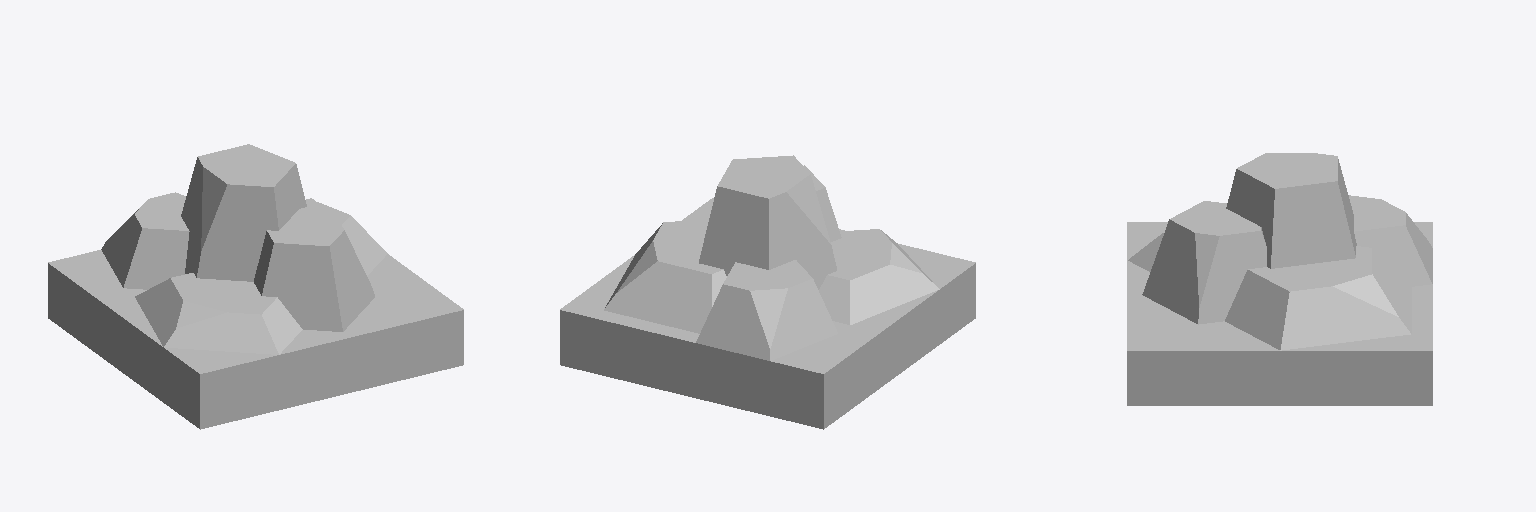
File: Rock.obj
The picture shows the model from 3 angles: view 1: azimuth 30°, elevation 25°; view 2: azimuth 150°, elevation 25°; view 3: azimuth 270°, elevation 25°; orthographic projection.
Parts seen in each view (by area): view 1: rocks, Rock; view 2: rocks, Rock; view 3: rocks, Rock.
Part boxes in pixels (x1,y1,x2,y2): rocks: (101,144,387,354); Rock: (48,198,463,429); rocks: (604,155,939,360); Rock: (560,198,975,429); rocks: (1128,153,1432,350); Rock: (1127,222,1432,405).
Size of the model in its own units: 1 by 0.6186 by 1.